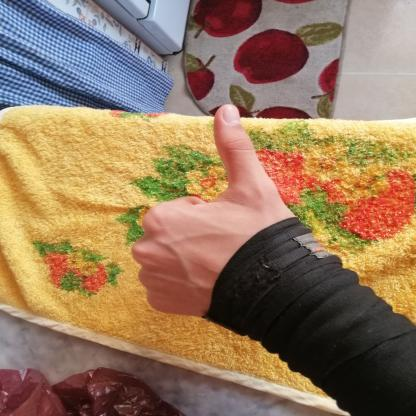ALIF: (108, 92, 328, 343)
